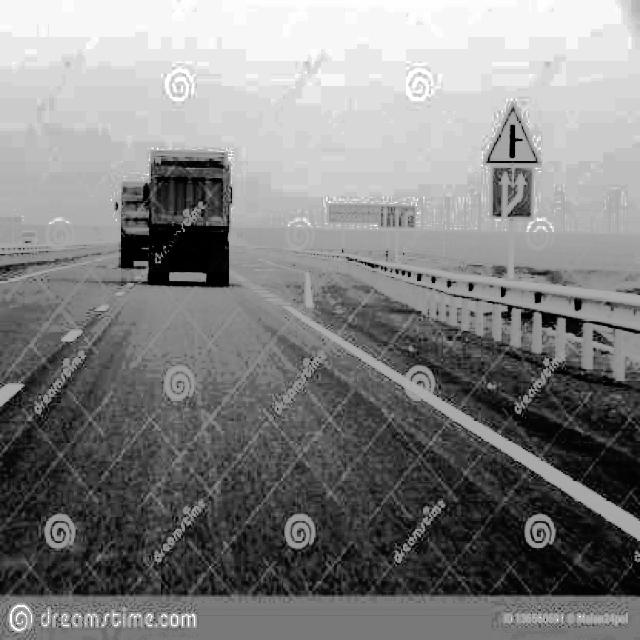HCV: (137, 154, 232, 267), (105, 169, 169, 267)
